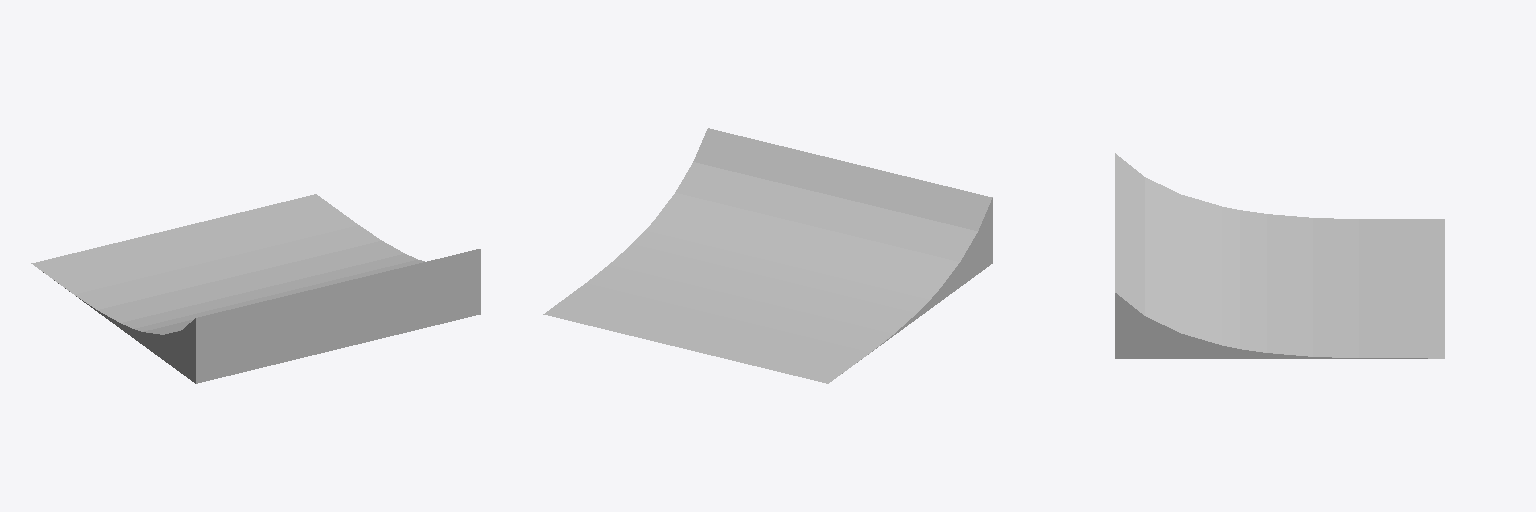
The model's file is Quater_SML_Kicker_Full.obj.
3 renders of one model, left to right at view 1: azimuth 30°, elevation 25°; view 2: azimuth 150°, elevation 25°; view 3: azimuth 270°, elevation 25°, orthographic.
Visible parts, largest first — view 1: Quater_SML_Kicker_Full; view 2: Quater_SML_Kicker_Full; view 3: Quater_SML_Kicker_Full.
Part boxes in pixels (x1,y1,x2,y2): Quater_SML_Kicker_Full: (31,194,480,383); Quater_SML_Kicker_Full: (543,128,992,383); Quater_SML_Kicker_Full: (1115,153,1444,358).
Bounding box in the file's own units: 10 × 2.21 × 10.